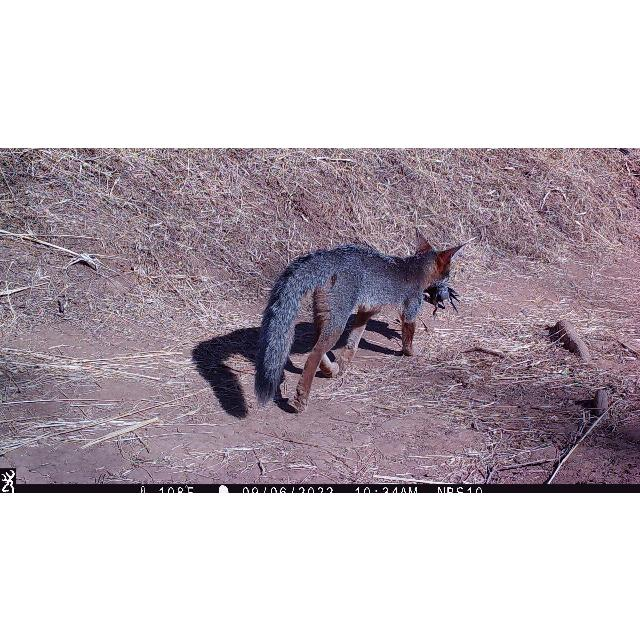animals: (253, 230, 473, 416)
